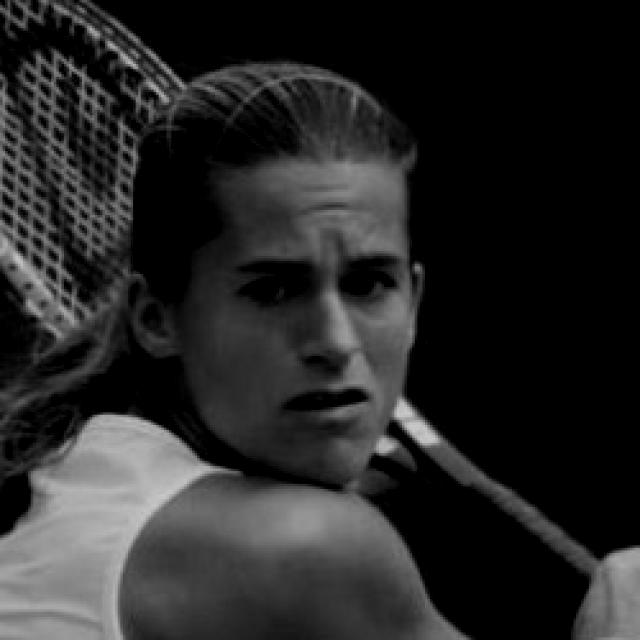real: (141, 43, 430, 499), (215, 246, 414, 315)
